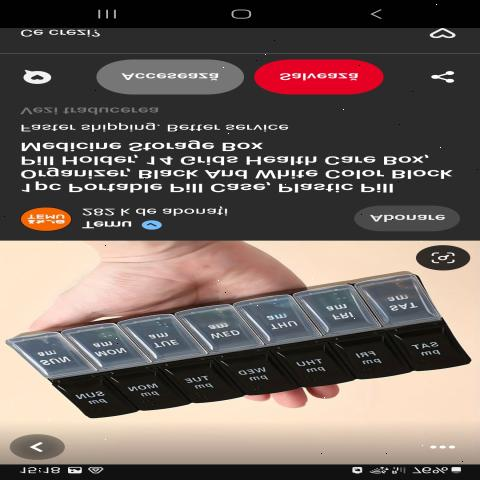PillBox: (13, 254, 473, 432)
